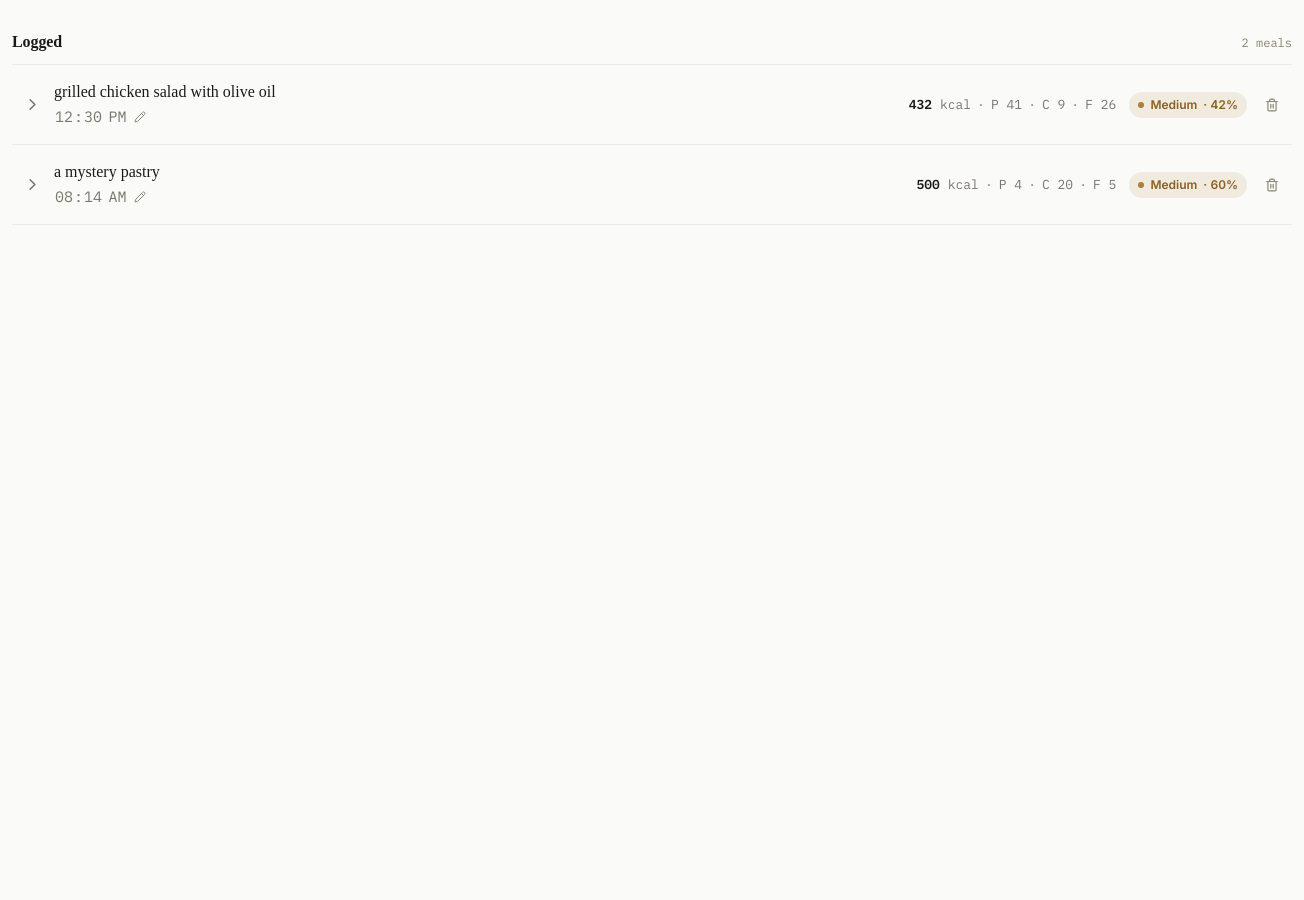
MealList › shows the confidence reasons in the 'why this confidence' card when expanded
Expected: the text "lower-trust source" is not shown
Click the button with class "meal-head" that starts with "grilled chicken salad with olive oil" at (165, 92), box top-left (22, 83), bottom-right (1284, 128)
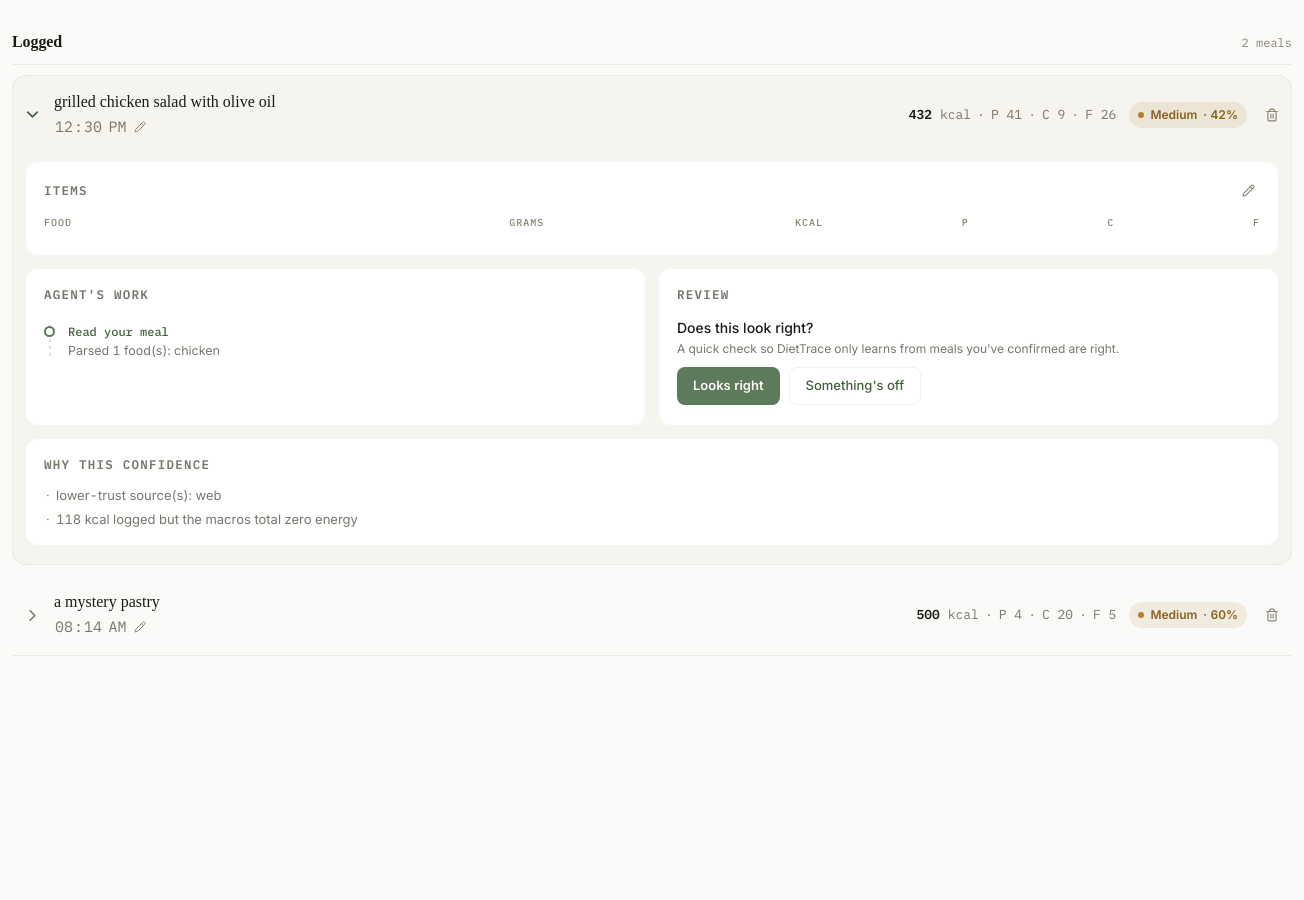
Expected: the list item "lower-trust source(s): web" is shown, top-left (56, 488), bottom-right (221, 504)
Expected: the list item "118 kcal logged but the macros total zero energy" is shown, top-left (56, 511), bottom-right (358, 527)
